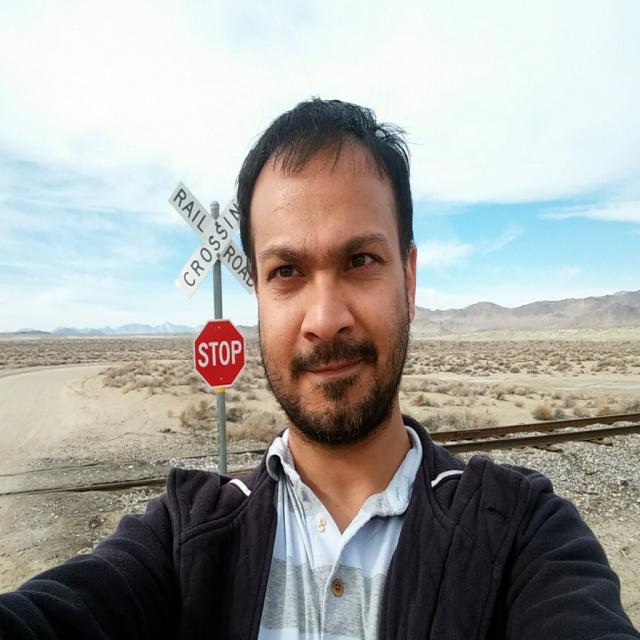Stop-sign: (194, 318, 245, 389)
